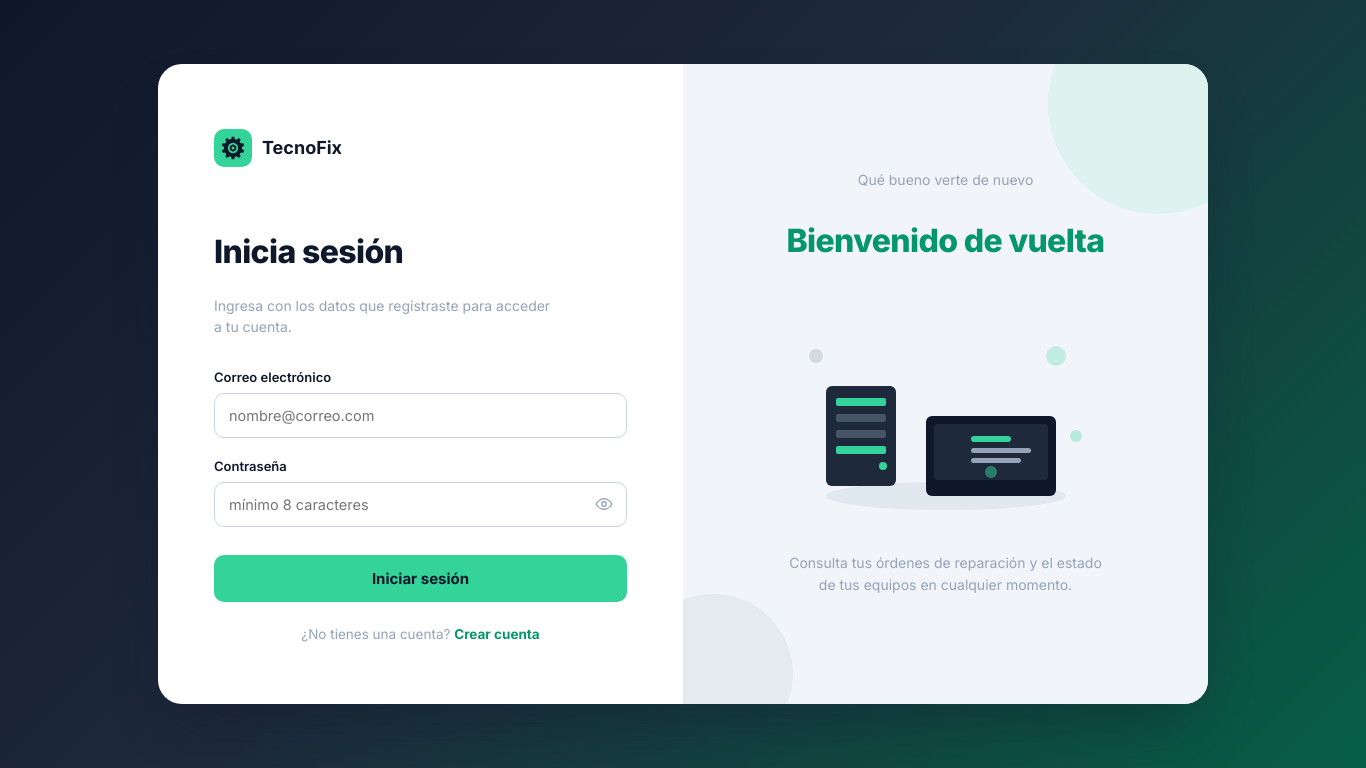
it: ORD-002 en el frontend › valida los campos obligatorios antes de enviar
Type "tecnico@tecnofix.cl" into the field labelled "Correo electrónico".
click(420, 416); type("tecnico@tecnofix.cl")  # box x1=214 y1=393 x2=627 y2=438
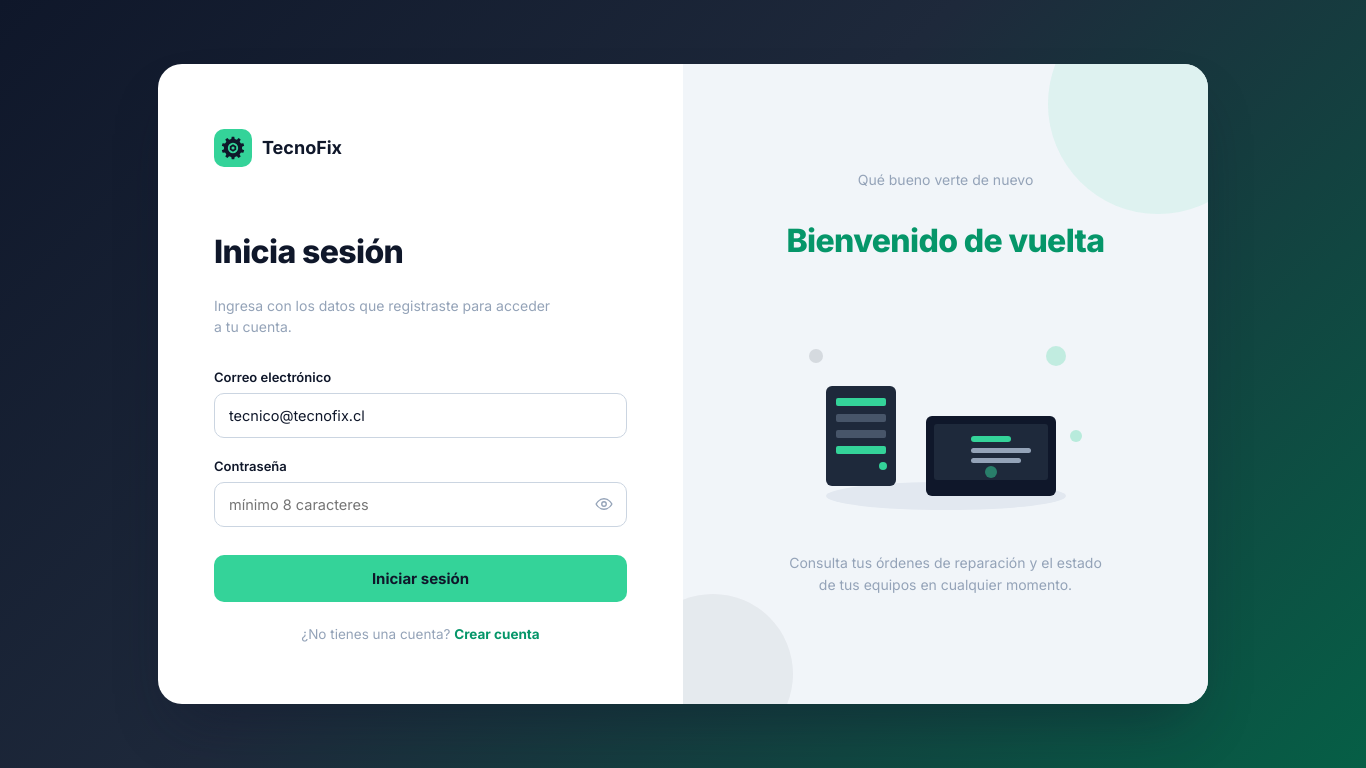
Type "Clave1234" into the password field labelled "Contraseña".
click(420, 504); type("Clave1234")  # box x1=214 y1=482 x2=627 y2=527
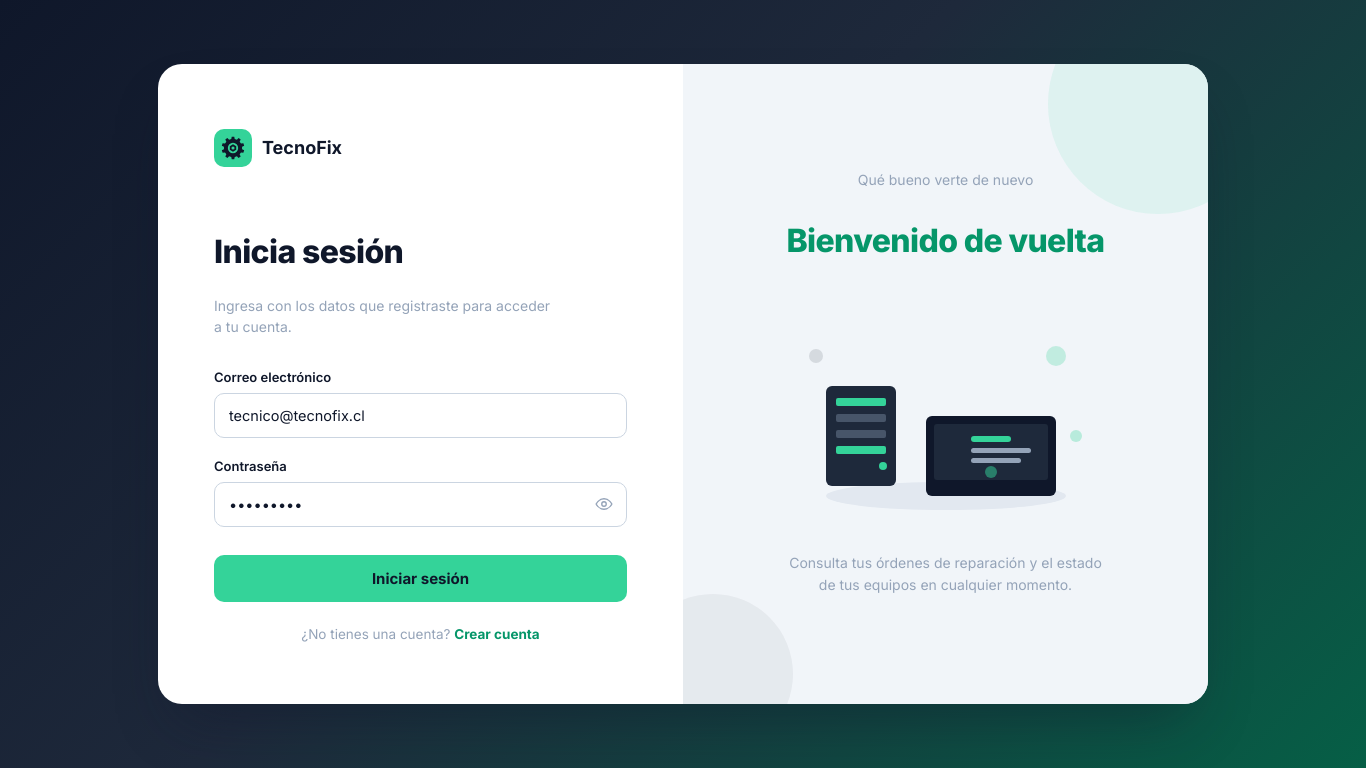
Submit the form, box x1=214 y1=369 x2=627 y2=602
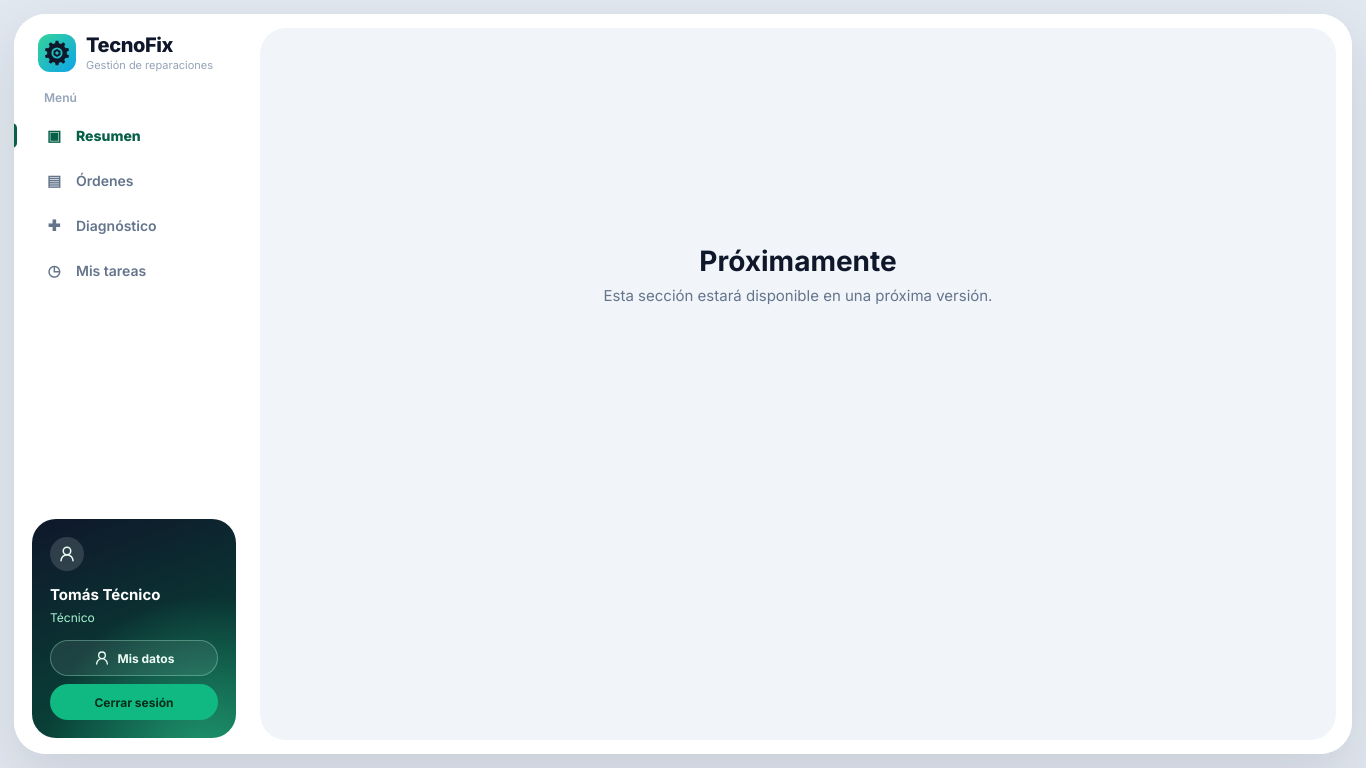
Click the button "✚ Diagnóstico".
click(134, 226)  # box x1=32 y1=205 x2=236 y2=246
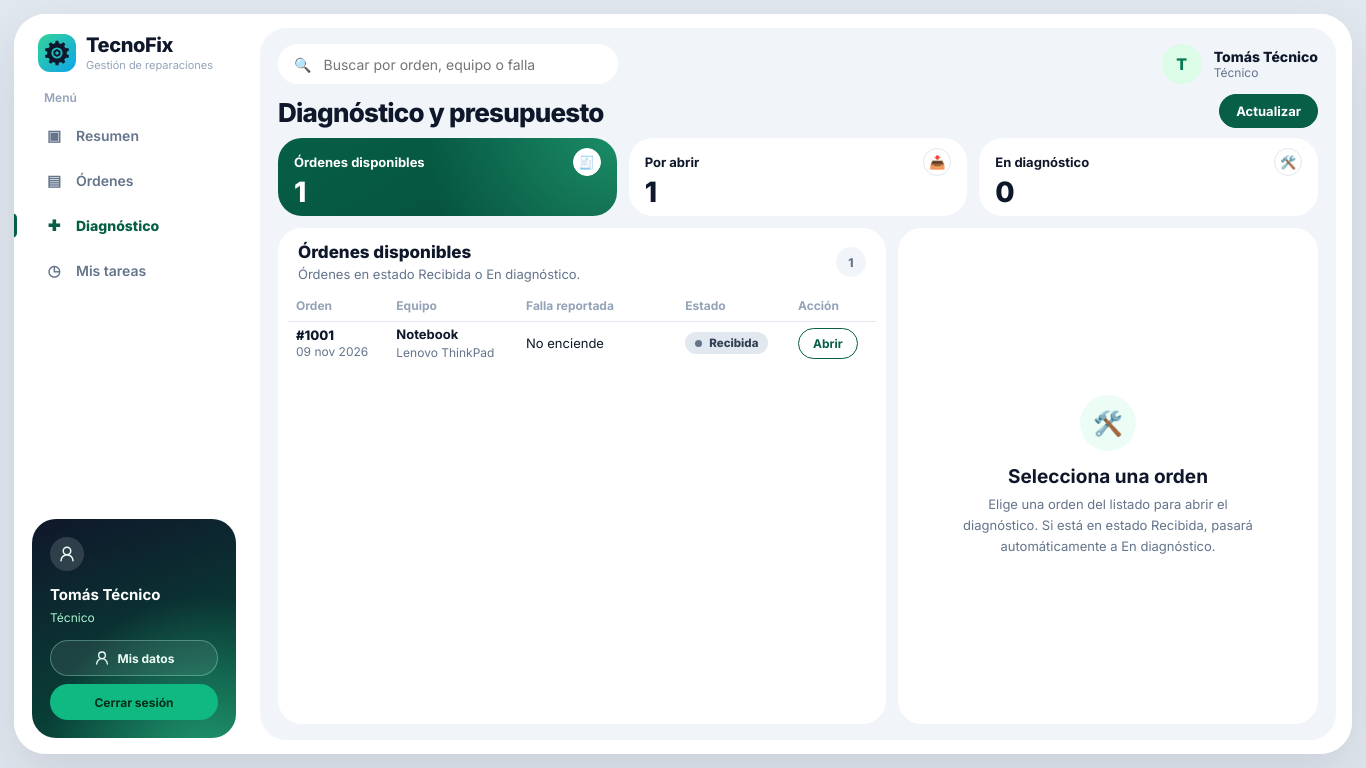
Click the button "Abrir".
click(828, 343)  # box x1=798 y1=328 x2=858 y2=359
(page scrolled)
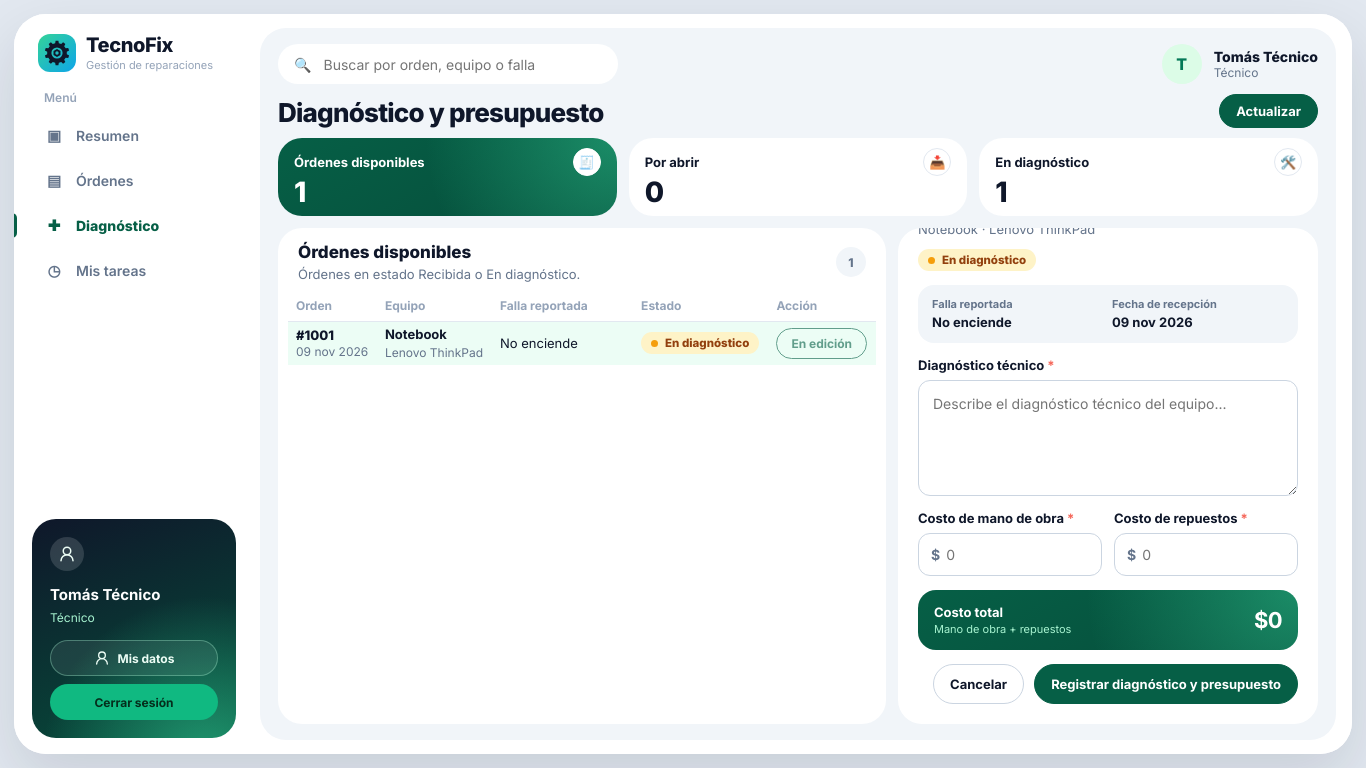
Check: the text "En diagnóstico" is shown, box x1=641 y1=332 x2=759 y2=354
Click the button "Registrar diagnóstico y presupuesto".
click(1166, 684)  # box x1=1034 y1=664 x2=1298 y2=704
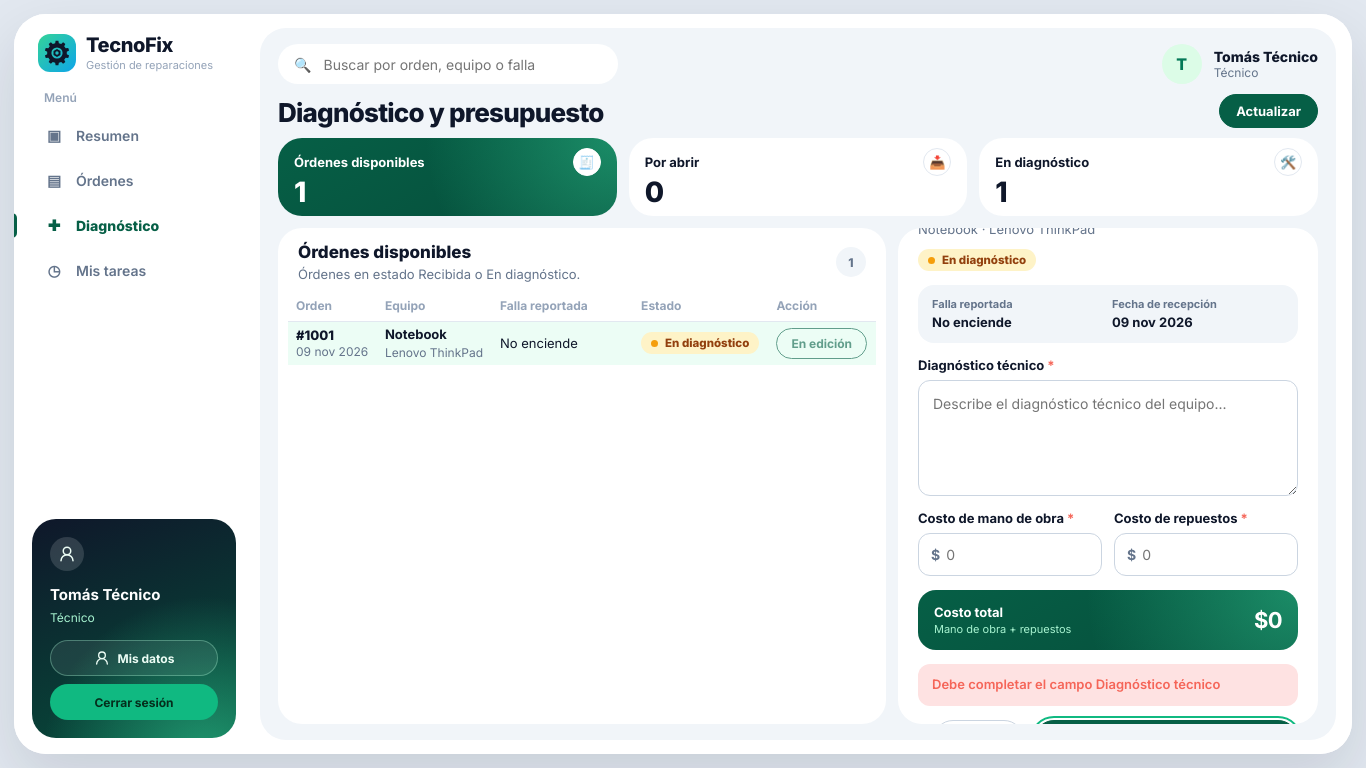
Check: the message reads "Debe completar el campo Diagnóstico técnico", box x1=932 y1=676 x2=1220 y2=692
